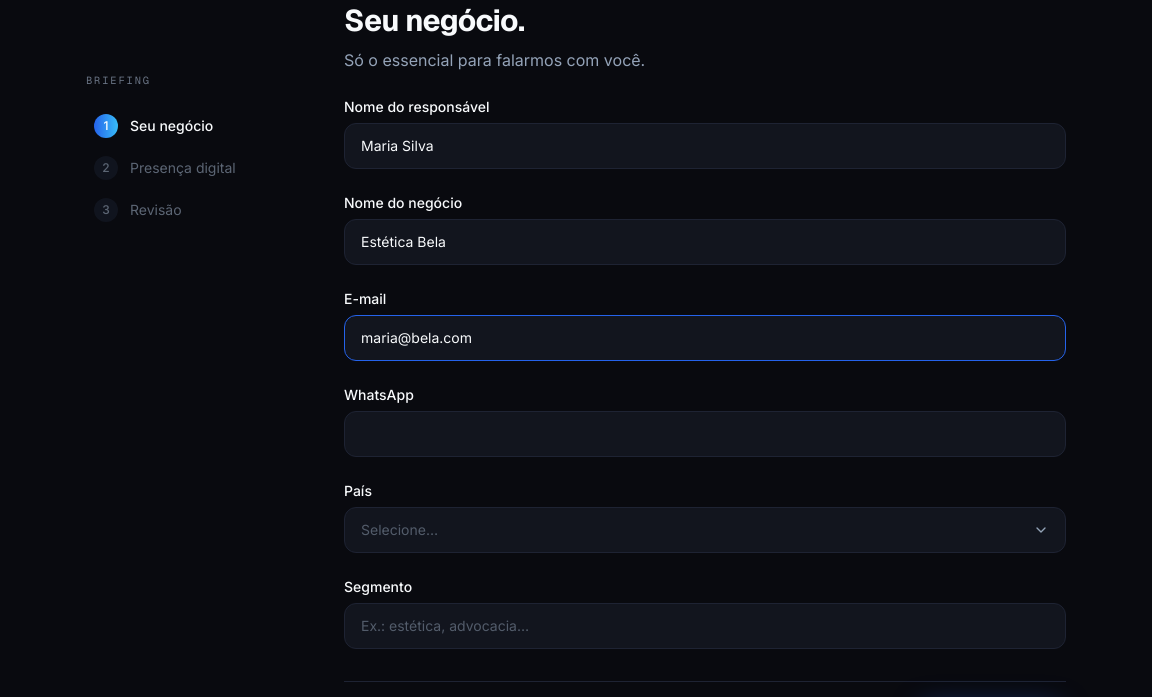
Test: BriefingForm (diagnostico) › advances once valid and preserves answers when going back
The width and height of the screenshot is (1152, 697).
Earlier steps of the test are not shown.
Type "11999998888" into the field labelled "WhatsApp" at [705, 434], box [344,411,1066,457]
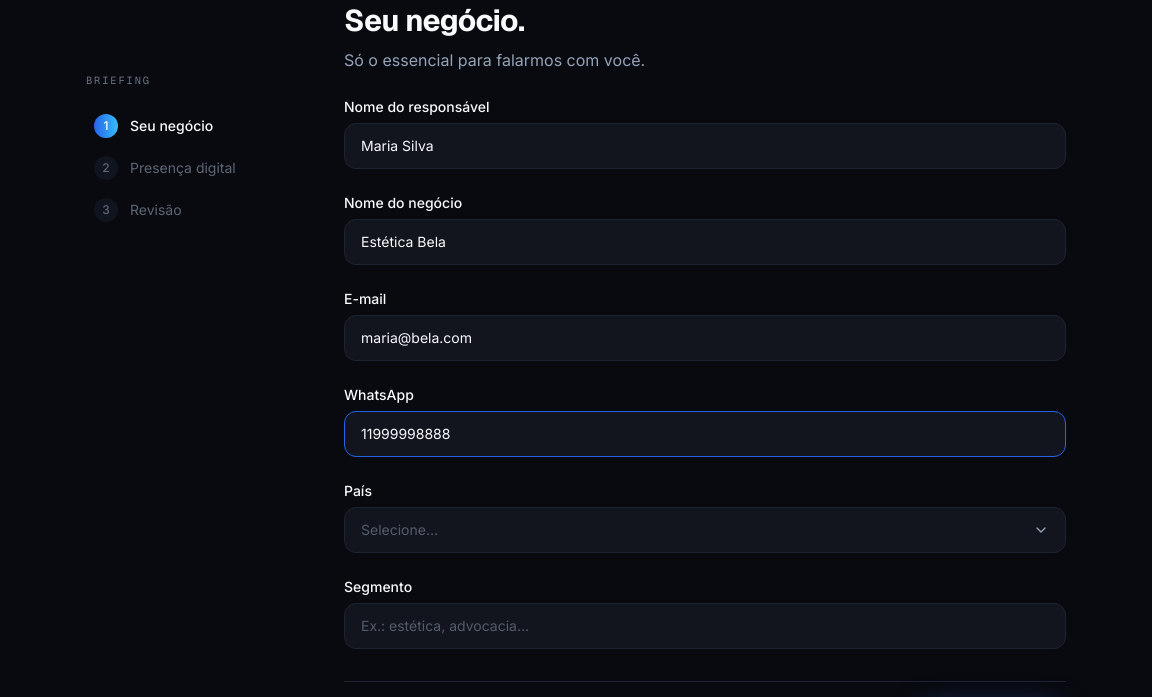
Click the dropdown named "País" at [400, 529], box [344,507,1066,553]
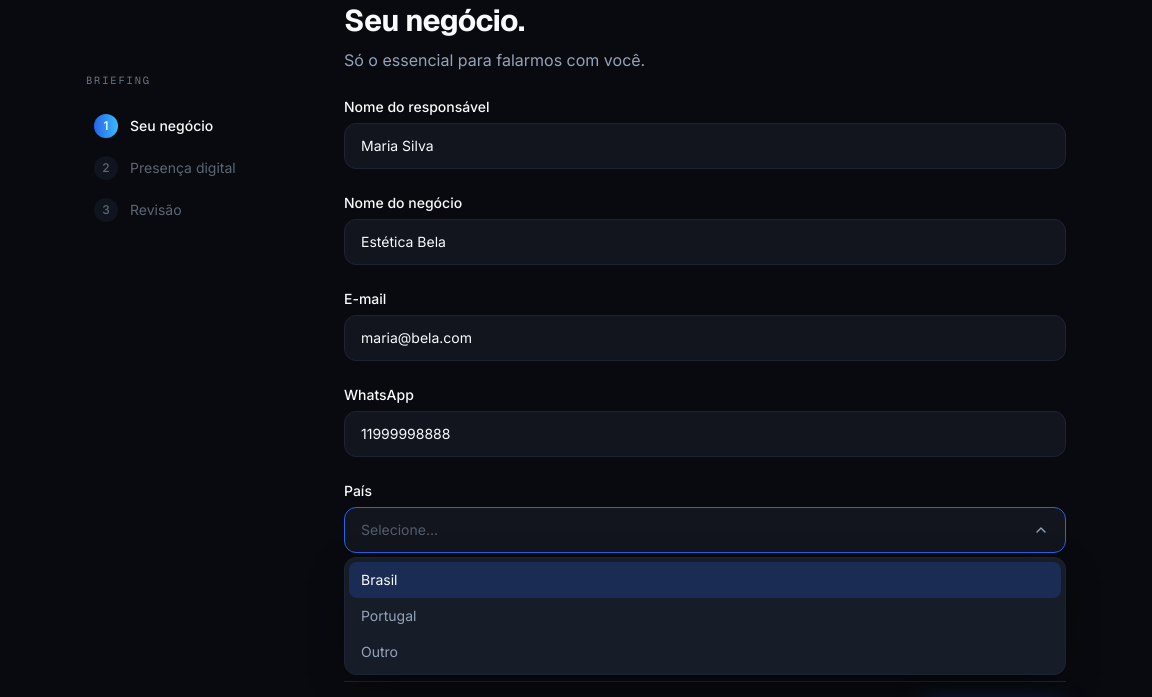
Click the option "Brasil" at [379, 579], box [349,562,1061,598]
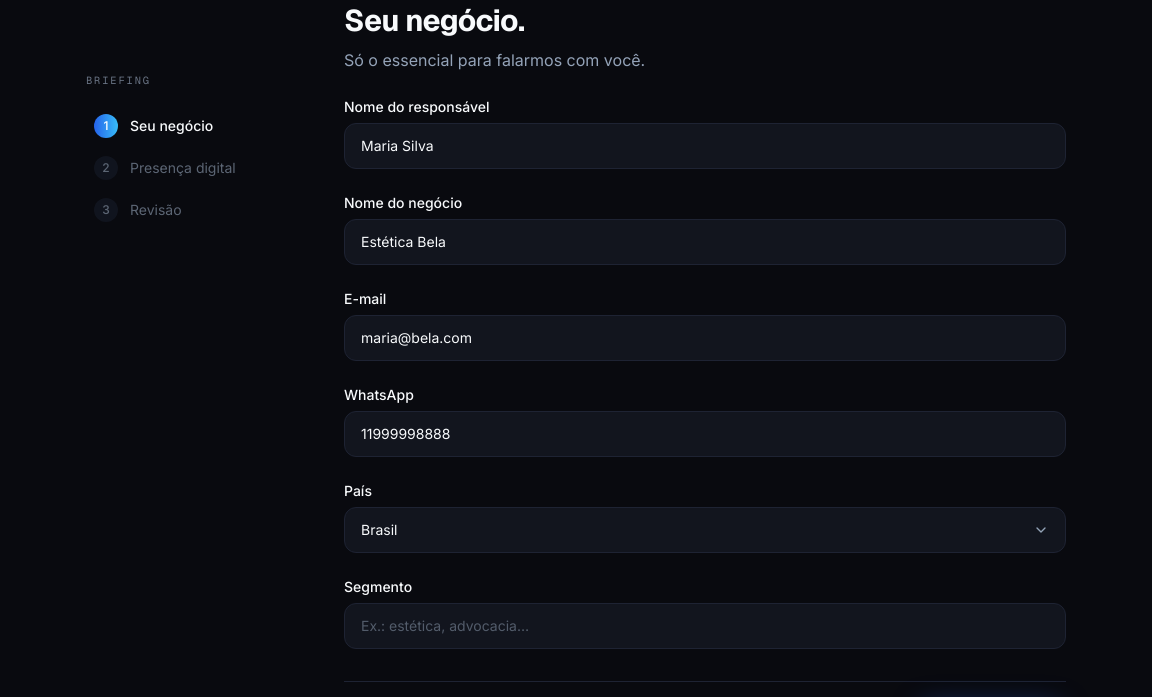
Type "Estética" into the field labelled "Segmento" at [705, 626], box [344,603,1066,649]
(page scrolled)
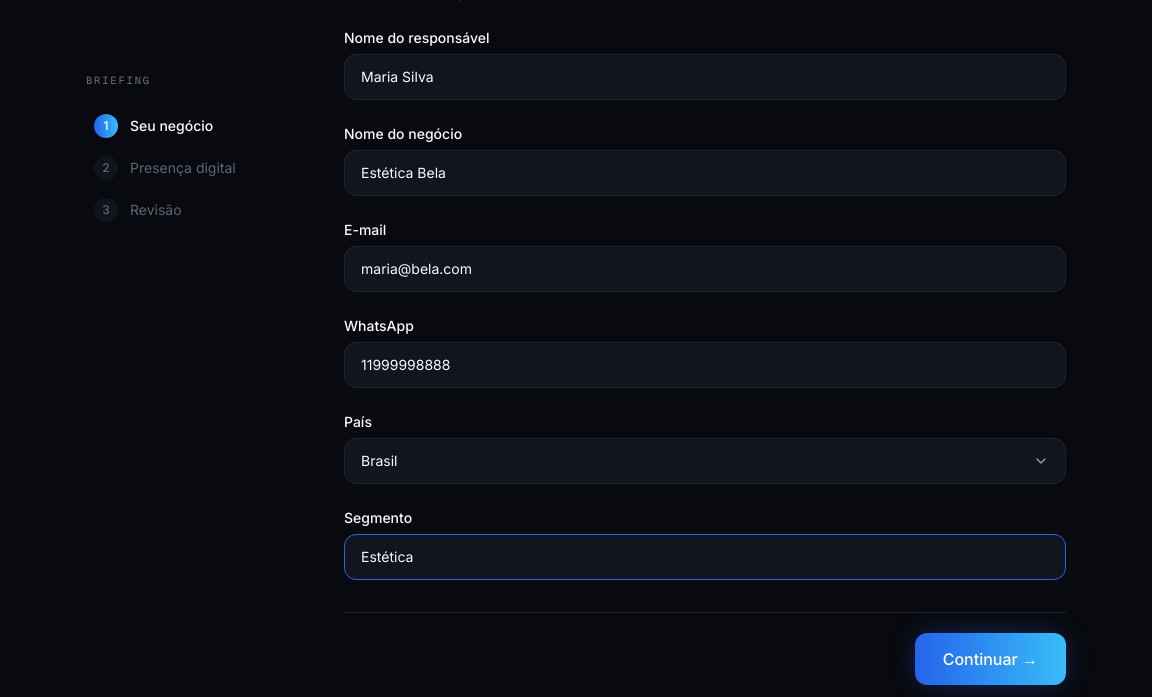
Click the button "Continuar →" at [990, 659], box [915,633,1066,685]
(page scrolled)
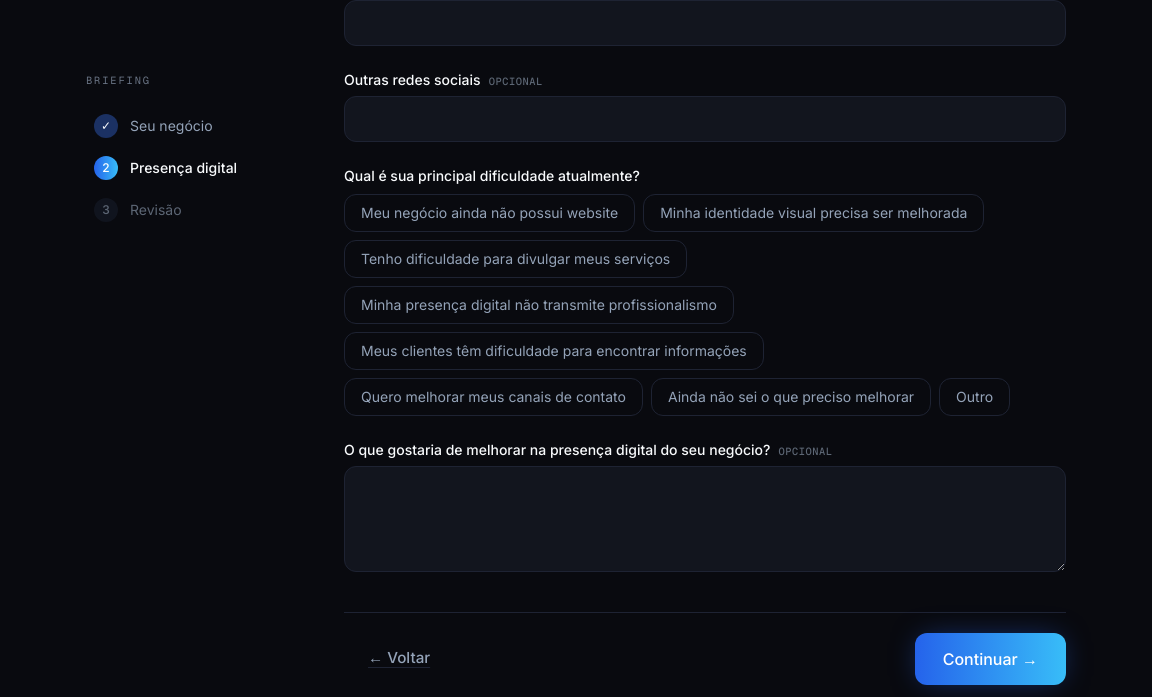
Click the button "← Voltar" at [399, 659], box [344,634,454,683]
(page scrolled)
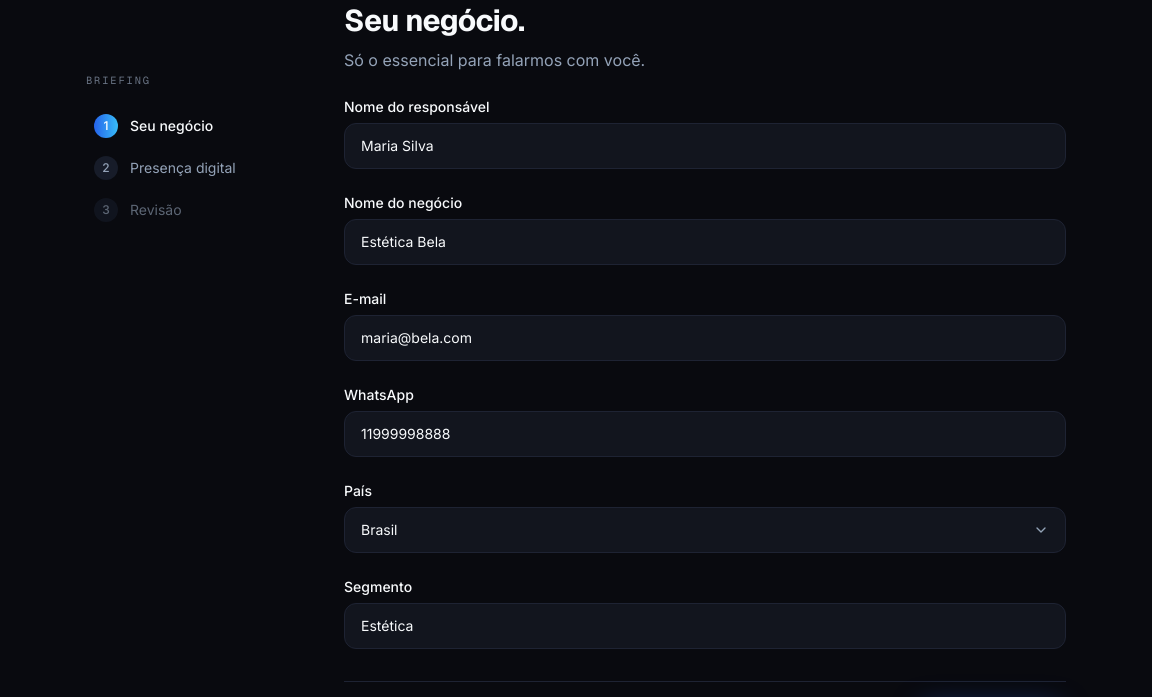
Check: the field labelled "Nome do responsável" holds "Maria Silva", box [344,123,1066,169]
